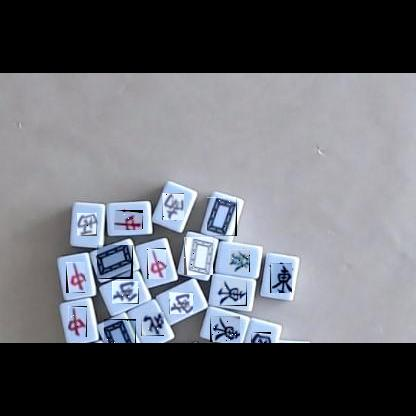1z: (217, 280, 247, 306), (210, 316, 240, 342), (270, 263, 292, 293)
2z: (112, 281, 139, 304), (162, 193, 184, 220), (169, 292, 193, 314)
3z: (77, 213, 97, 236), (251, 332, 271, 343)
4z: (141, 312, 164, 336)
5z: (97, 245, 133, 279), (207, 197, 237, 236), (184, 237, 213, 275), (104, 319, 136, 343)
6z: (229, 249, 250, 272)
7z: (147, 248, 166, 279), (66, 262, 85, 293), (68, 306, 87, 337), (114, 210, 143, 230)
